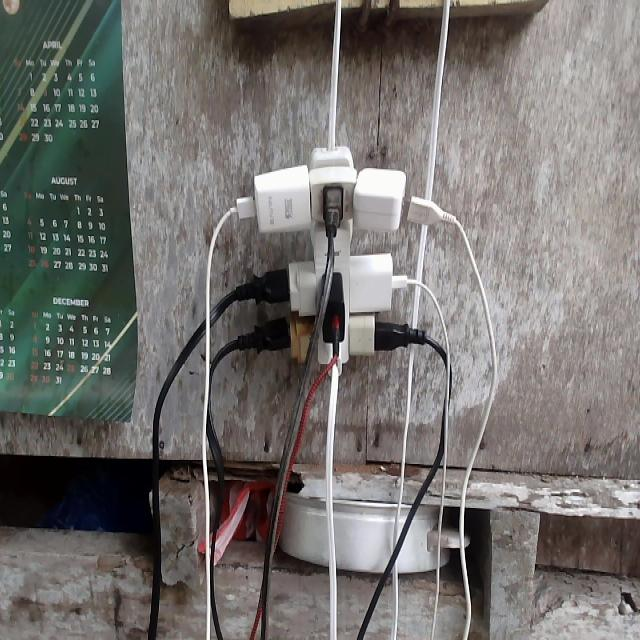-: (198, 136, 461, 385)
